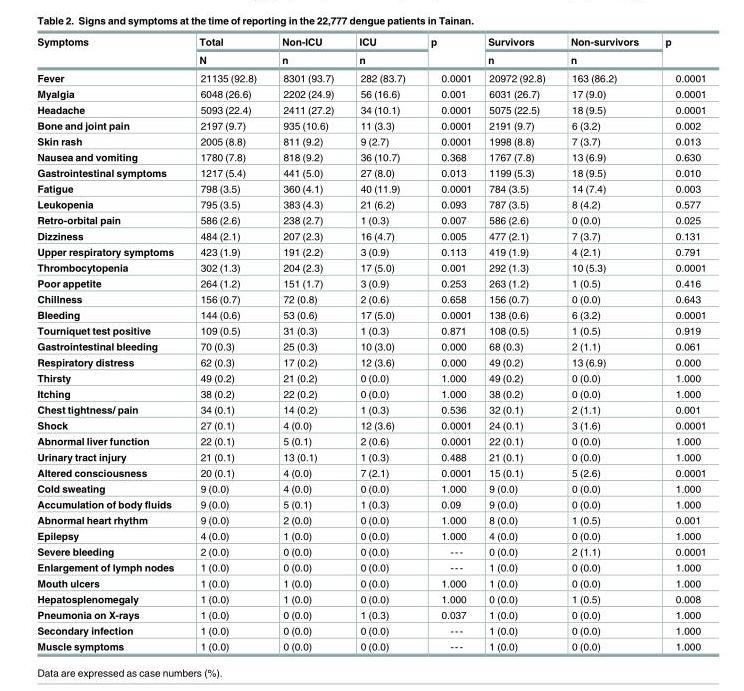table: (36, 36, 705, 651)
table column: (36, 36, 185, 651), (557, 36, 651, 651), (185, 36, 268, 651), (479, 36, 557, 651), (268, 36, 345, 651), (345, 36, 417, 651), (417, 36, 479, 651), (651, 36, 705, 651)
table column header: (36, 36, 705, 69)
table row: (36, 51, 705, 69), (36, 69, 705, 86), (36, 86, 705, 102), (36, 117, 705, 133), (36, 133, 705, 149), (36, 149, 705, 165), (36, 165, 705, 181), (36, 196, 705, 212), (36, 212, 705, 228), (36, 228, 705, 244), (36, 244, 705, 260), (36, 275, 705, 291), (36, 291, 705, 307), (36, 307, 705, 323), (36, 338, 705, 354), (36, 354, 705, 370), (36, 370, 705, 386), (36, 386, 705, 402), (36, 417, 705, 433), (36, 433, 705, 449), (36, 449, 705, 465), (36, 465, 705, 481), (36, 496, 705, 512), (36, 512, 705, 528), (36, 528, 705, 544), (36, 559, 705, 575), (36, 575, 705, 591), (36, 591, 705, 607), (36, 607, 705, 623), (36, 36, 705, 51), (36, 102, 705, 117), (36, 181, 705, 196), (36, 260, 705, 275), (36, 323, 705, 338), (36, 402, 705, 417), (36, 481, 705, 496), (36, 544, 705, 559), (36, 623, 705, 638), (36, 638, 705, 651)
table spanning cell: (36, 36, 185, 69), (557, 36, 651, 69), (185, 36, 268, 69), (479, 36, 557, 69), (268, 36, 345, 69), (345, 36, 417, 69), (417, 36, 479, 69), (651, 36, 705, 69)
